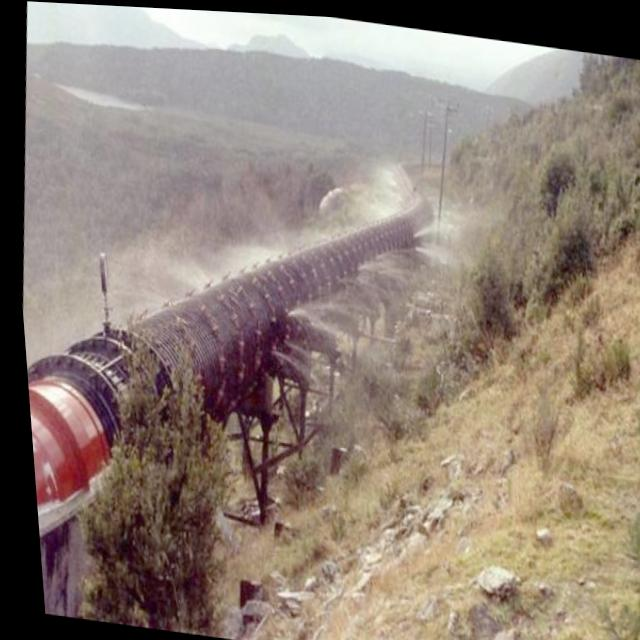leak: (255, 215, 475, 399), (47, 189, 320, 323), (320, 156, 406, 206)
